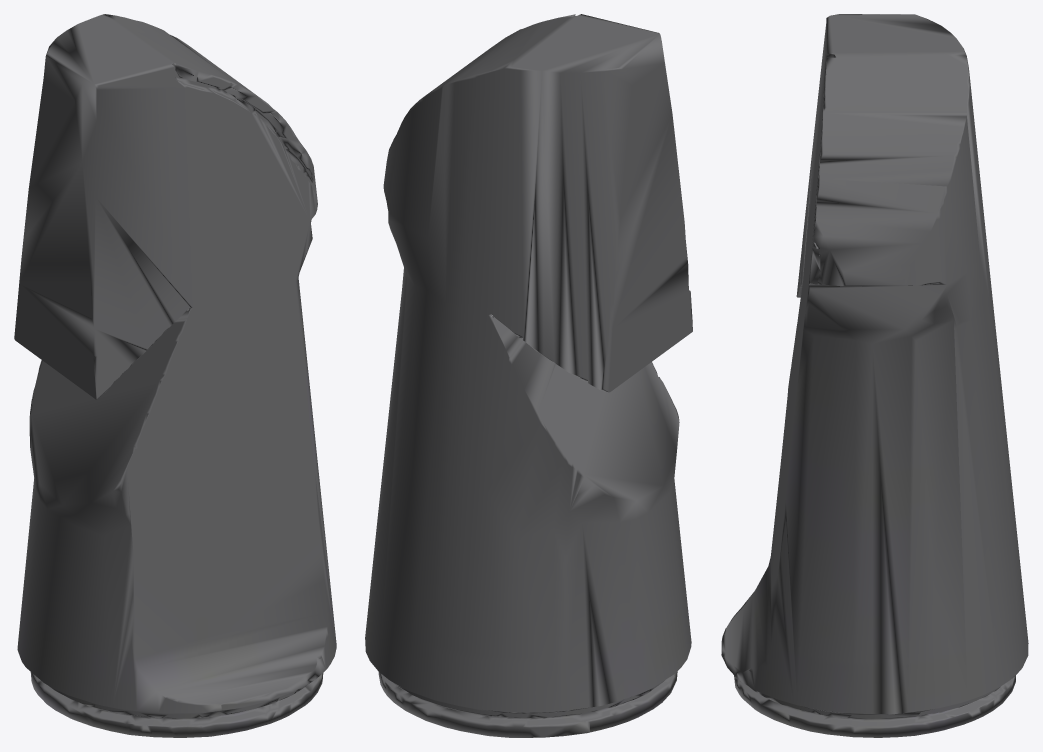
The model's file is 04_jezdec_cerna.glb.
The picture shows the model from 3 angles, left to right: view 1: azimuth 30°, elevation 25°; view 2: azimuth 150°, elevation 25°; view 3: azimuth 270°, elevation 25°; orthographic projection. The views are drawn at different scales.
Parts seen in each view (by area): view 1: 04_jezdec_cerna; view 2: 04_jezdec_cerna; view 3: 04_jezdec_cerna.
Part boxes in pixels (<box>): 04_jezdec_cerna: <box>14,14,336,737</box>; 04_jezdec_cerna: <box>365,14,692,737</box>; 04_jezdec_cerna: <box>721,14,1028,737</box>.
Bounding box in the file's own units: 0.0378 × 0.0832 × 0.0377.
Materials: 1 (1 with a texture image).
